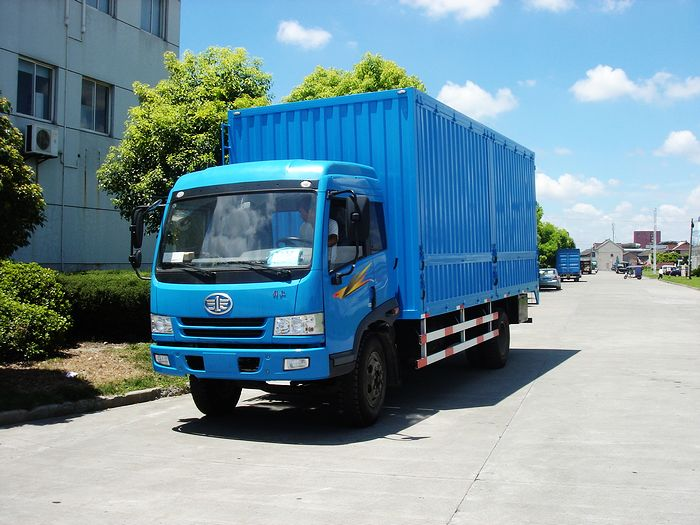smalltruck: (138, 82, 533, 423)
